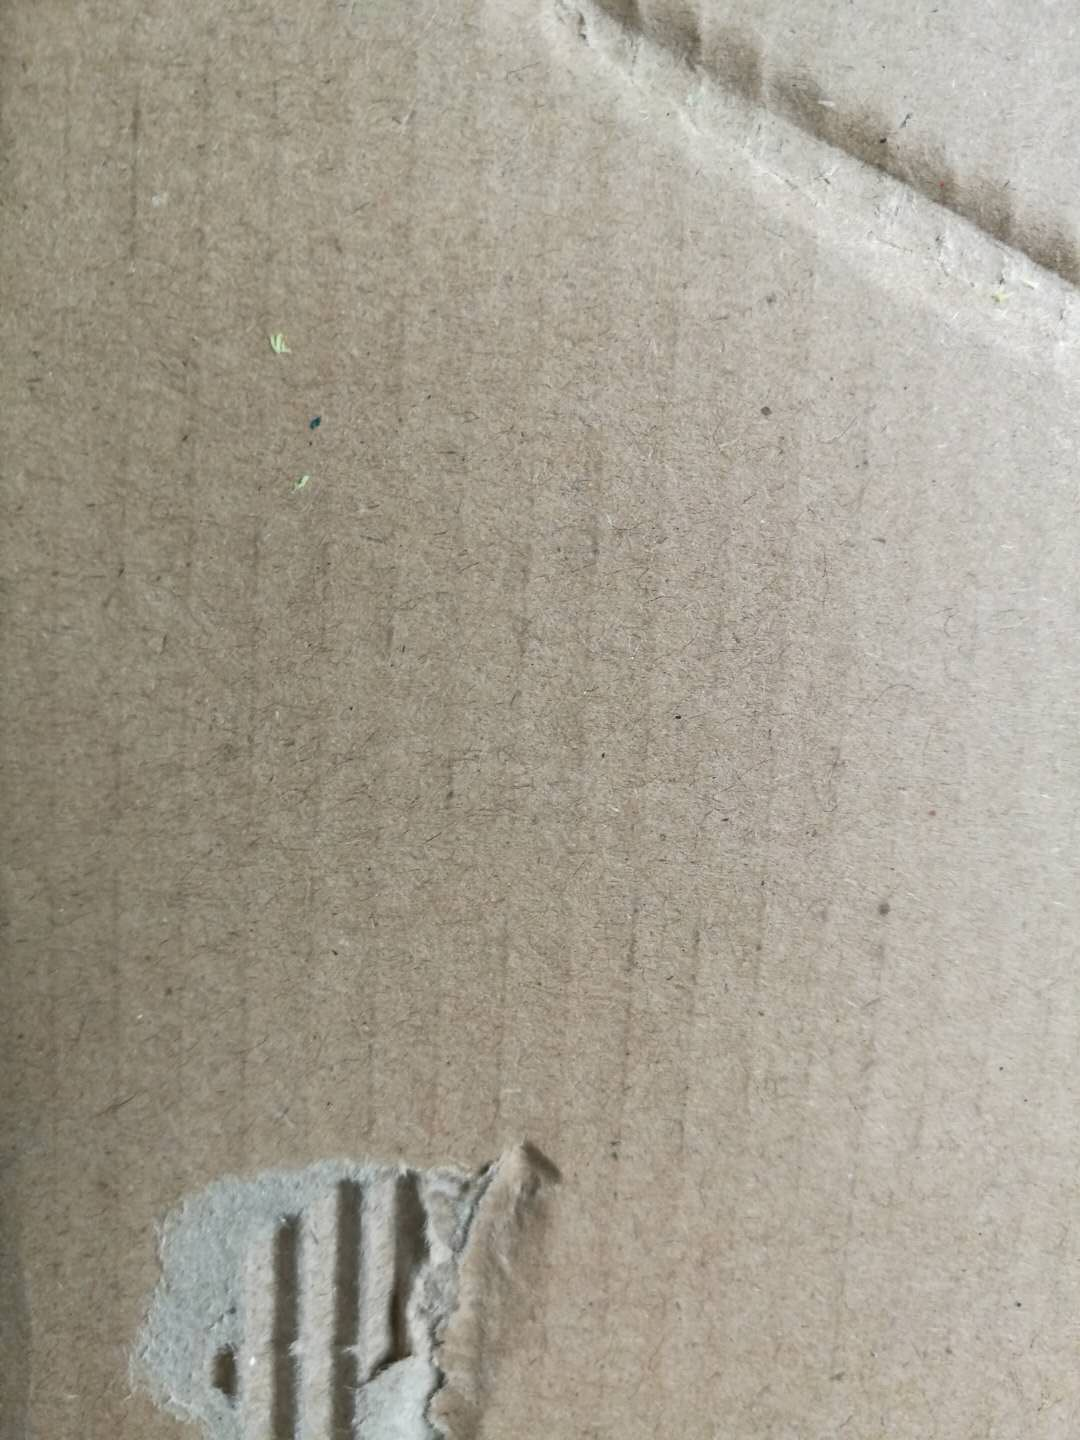defect: (474, 5, 1080, 426), (82, 1084, 598, 1440)
